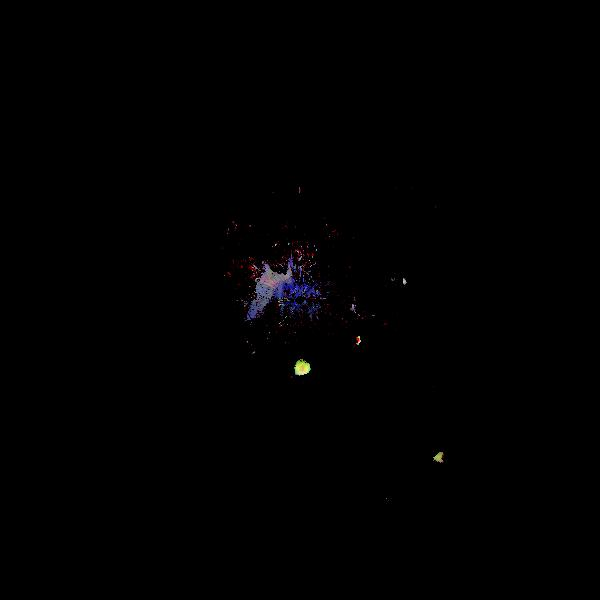roost: (291, 358, 312, 379), (434, 451, 455, 472), (345, 333, 363, 351)
